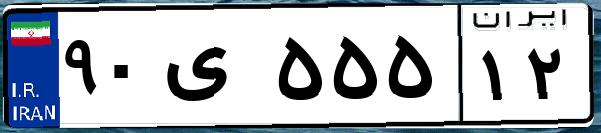0: (110, 28, 158, 98)
1: (475, 38, 525, 113)
2: (525, 38, 570, 115)
5: (270, 28, 330, 110), (385, 28, 445, 110), (330, 28, 385, 110)
9: (57, 26, 110, 100)
ی: (158, 20, 270, 120)
